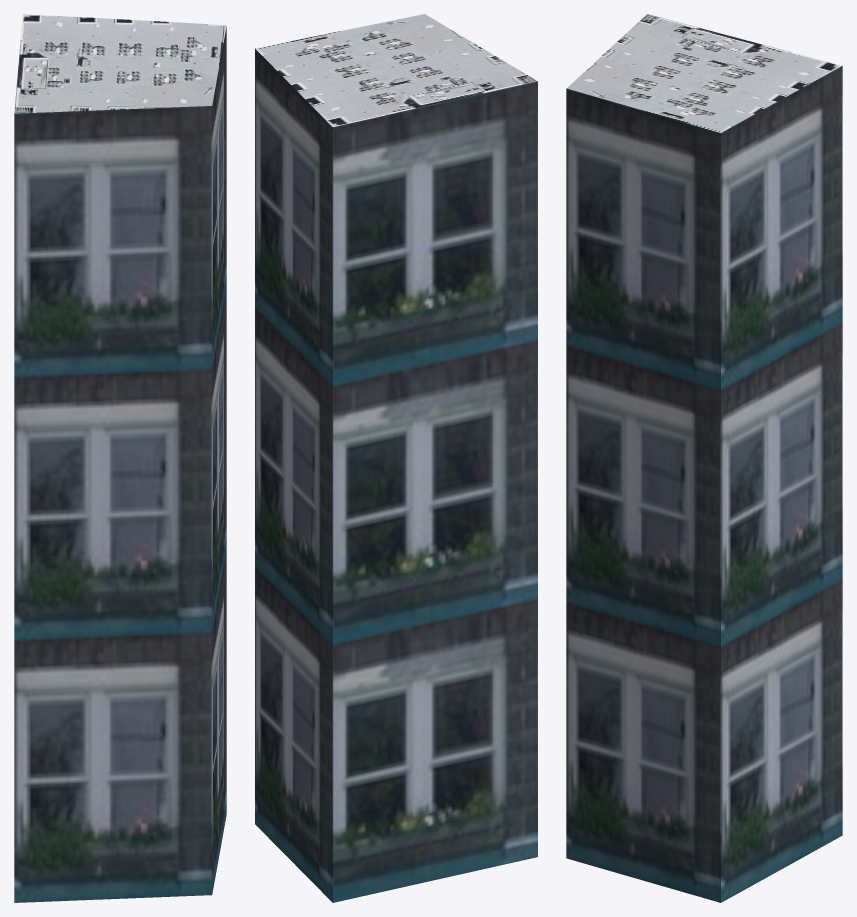
The model's file is ResTex__4255.fbx.
3 views of the same model, side by side, from view 1: azimuth 30°, elevation 25°; view 2: azimuth 150°, elevation 25°; view 3: azimuth 270°, elevation 25° (orthographic). The views are drawn at different scales.
Parts seen in each view (by area): view 1: CityEngineMaterial_11_m, CityEngineMaterial_4_m; view 2: CityEngineMaterial_11_m, CityEngineMaterial_4_m; view 3: CityEngineMaterial_11_m, CityEngineMaterial_4_m.
Boxes of the visible parts, x1=… form: CityEngineMaterial_11_m: x1=14, y1=26, x2=226, y2=902; CityEngineMaterial_4_m: x1=14, y1=14, x2=226, y2=113; CityEngineMaterial_11_m: x1=255, y1=49, x2=537, y2=902; CityEngineMaterial_4_m: x1=255, y1=14, x2=537, y2=126; CityEngineMaterial_11_m: x1=566, y1=66, x2=842, y2=902; CityEngineMaterial_4_m: x1=566, y1=14, x2=841, y2=132.
Bounding box in the file's own units: 2.99 × 9 × 2.92.
2 materials, 2 textured.
